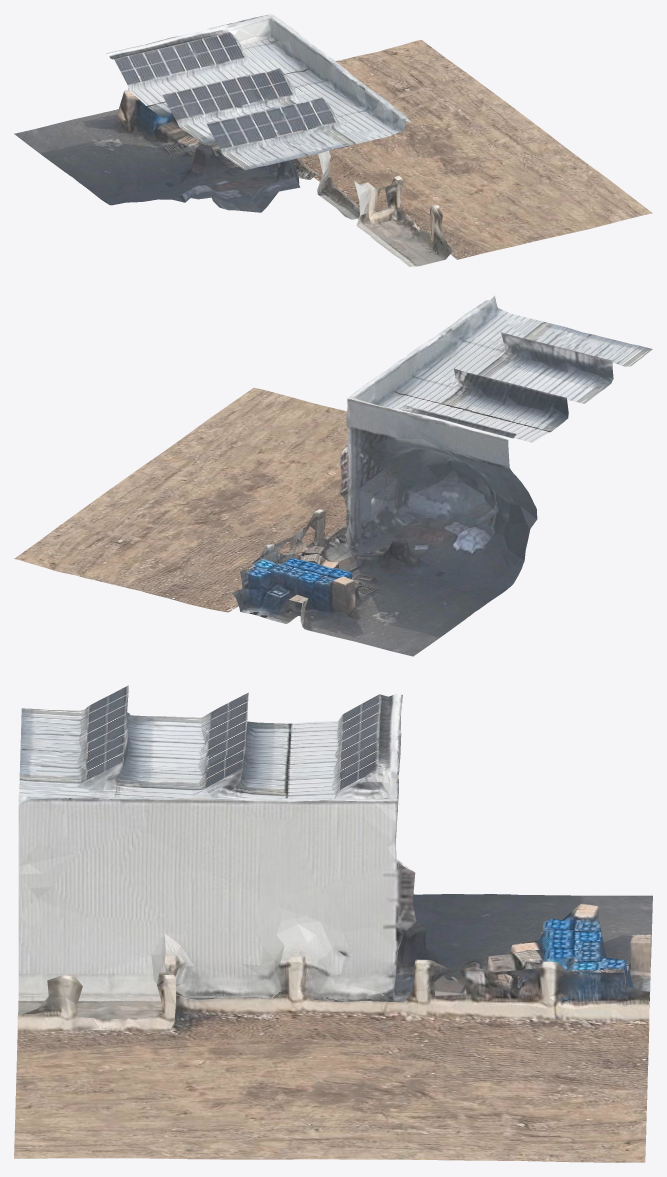
The model's file is Tile_+008_+011_L20_0uuuu22.glb.
3 renders of one model, top to bottom at view 1: azimuth 30°, elevation 25°; view 2: azimuth 150°, elevation 25°; view 3: azimuth 270°, elevation 25°, orthographic. The views are drawn at different scales.
Visible parts, largest first — view 1: rtc; view 2: rtc; view 3: rtc.
Part boxes in pixels (x1,y1,x2,y2): rtc: (14,14,652,266); rtc: (14,295,652,656); rtc: (14,685,652,1162).
Size of the model in its own units: 32.17 by 12.03 by 32.53.
Materials: 3 (3 with a texture image).
